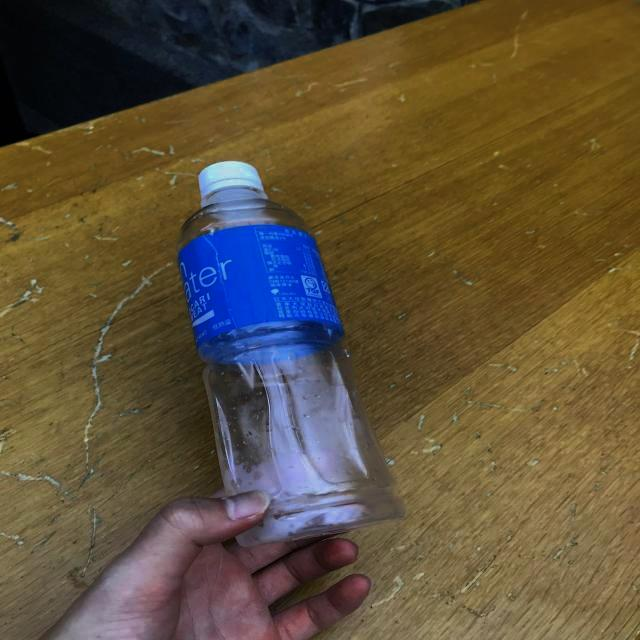bottle: (178, 161, 406, 547)
